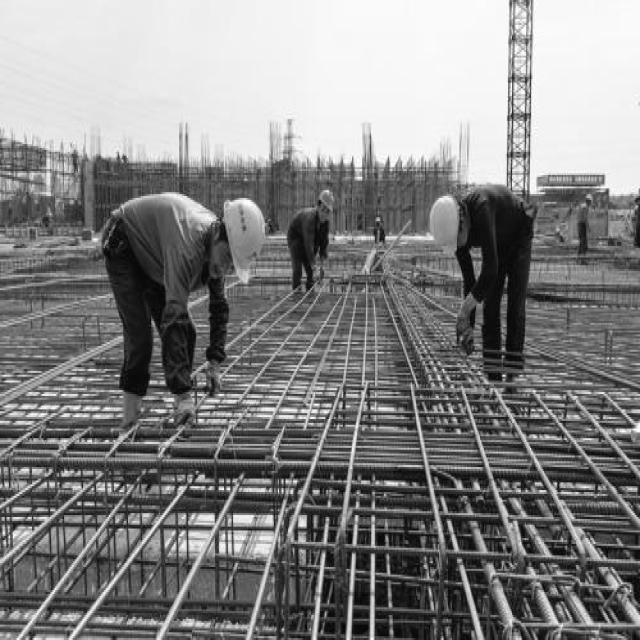hand_glove: (170, 388, 200, 436), (202, 356, 227, 400)
hand_noglove: (458, 286, 474, 327)
head_helmet: (430, 180, 529, 372), (222, 192, 268, 288), (430, 194, 460, 261), (315, 184, 337, 212), (585, 192, 594, 204)
person: (102, 184, 269, 430), (284, 179, 336, 292), (577, 188, 593, 264), (372, 204, 387, 252)
